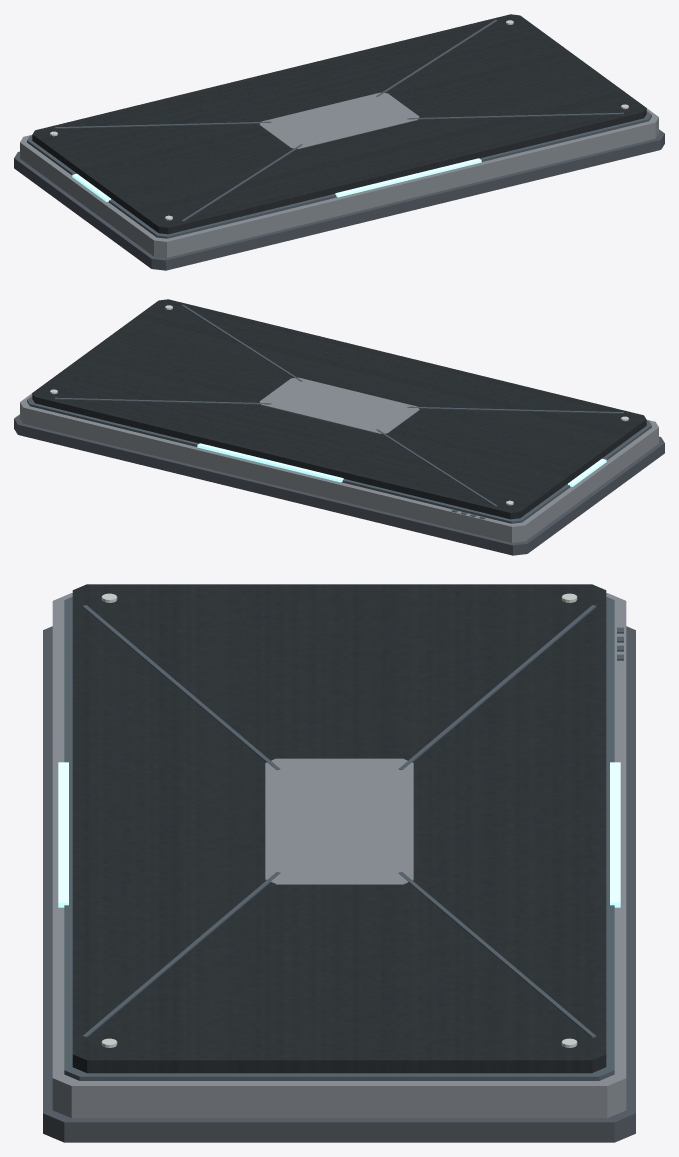
File: m03-metal-half-x.glb
3 views of the same model, one above another, from view 1: azimuth 30°, elevation 25°; view 2: azimuth 150°, elevation 25°; view 3: azimuth 270°, elevation 25° (orthographic). The views are drawn at different scales.
Parts seen in each view (by area): view 1: half-x/003, half-x/001, half-x/000, half-x/004, half-x/002, half-x/014, half-x/008, half-x/005; view 2: half-x/003, half-x/001, half-x/000, half-x/004, half-x/002, half-x/013, half-x/007, half-x/006; view 3: half-x/003, half-x/001, half-x/000, half-x/004, half-x/002, half-x/013, half-x/014, half-x/007, half-x/008, half-x/005, half-x/006.
Part boxes in pixels (box(x1,y1,x2,y2)): half-x/003: box(32, 14, 646, 234); half-x/001: box(20, 108, 658, 257); half-x/000: box(14, 129, 664, 270); half-x/004: box(259, 92, 419, 149); half-x/002: box(27, 111, 651, 238); half-x/014: box(335, 158, 481, 197); half-x/008: box(407, 112, 623, 119); half-x/005: box(55, 121, 271, 128); half-x/003: box(32, 299, 646, 519); half-x/001: box(20, 393, 658, 542); half-x/000: box(14, 414, 664, 555); half-x/004: box(259, 377, 419, 434); half-x/002: box(27, 396, 651, 523); half-x/013: box(197, 443, 343, 482); half-x/007: box(55, 397, 271, 404); half-x/006: box(407, 406, 623, 413); half-x/003: box(72, 584, 606, 1073); half-x/001: box(52, 593, 626, 1118); half-x/000: box(43, 626, 635, 1142); half-x/004: box(265, 758, 413, 884); half-x/002: box(64, 597, 614, 1080); half-x/013: box(610, 762, 620, 907); half-x/014: box(58, 762, 68, 907); half-x/007: box(398, 872, 596, 1037); half-x/008: box(82, 872, 280, 1037); half-x/005: box(398, 605, 596, 769); half-x/006: box(82, 605, 280, 769).
Bounding box in the file's own units: 1 × 0.0678 × 0.5.
Materials: 6 (1 with a texture image).
